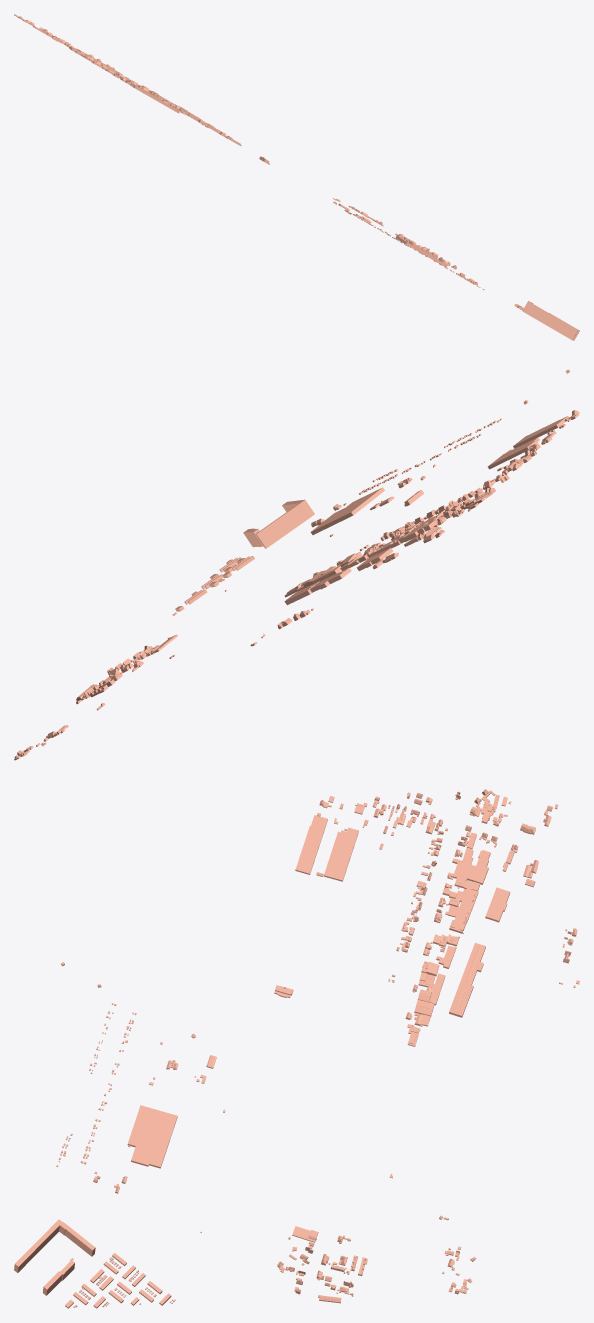
The picture shows the model from 3 angles, top to bottom: view 1: azimuth 30°, elevation 25°; view 2: azimuth 150°, elevation 25°; view 3: azimuth 270°, elevation 25°; orthographic projection. The views are drawn at different scales.
Size of the model in its own units: 1039 by 752 by 1210.
